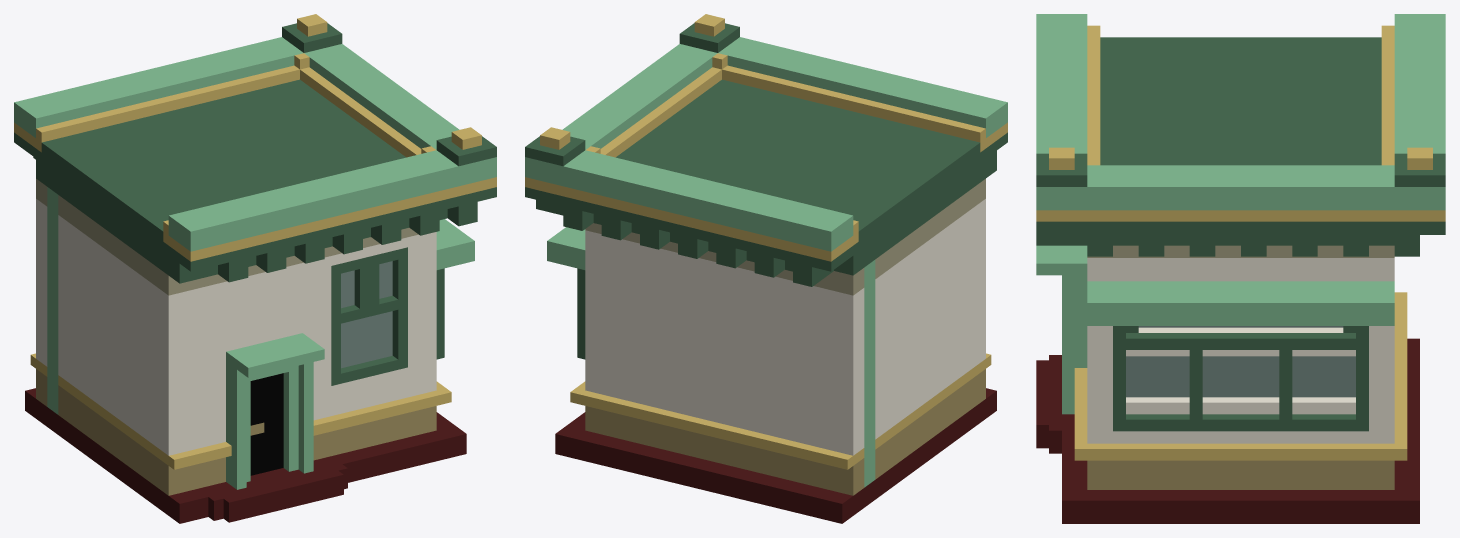
Rendered from tile_1_left.obj.
3 renders of one model, left to right at view 1: azimuth 30°, elevation 25°; view 2: azimuth 150°, elevation 25°; view 3: azimuth 270°, elevation 25°, orthographic. The views are drawn at different scales.
Size of the model in its own units: 3.2 by 3.2 by 3.2.
